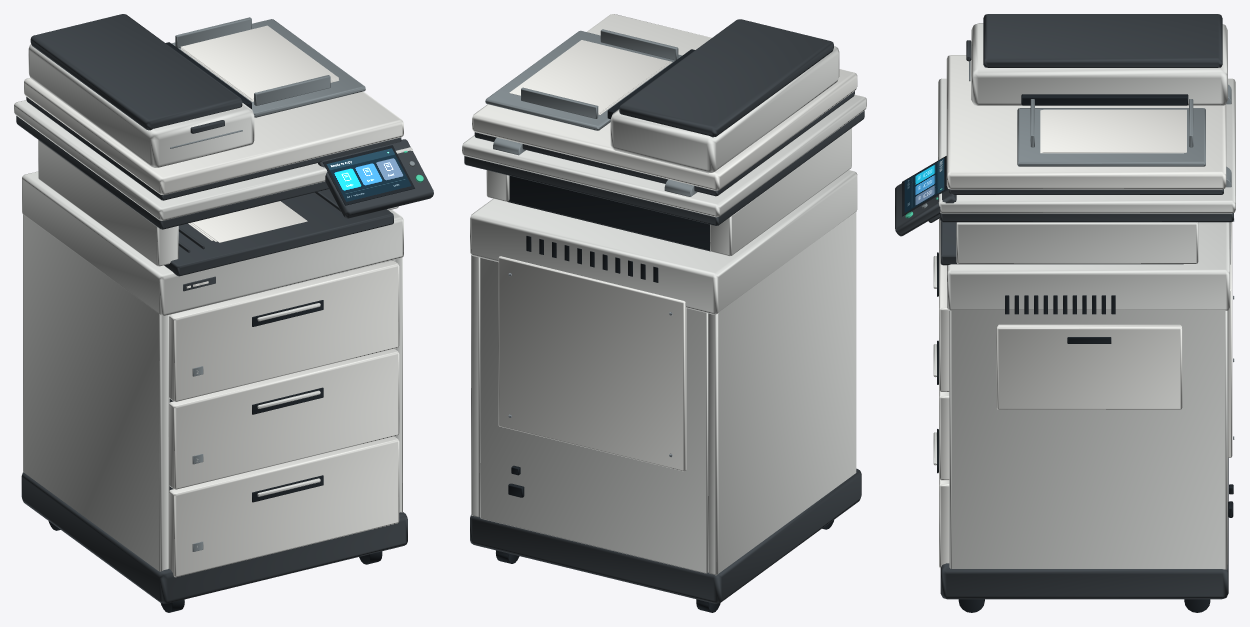
Rendered from compact_office_copier.glb.
3 views of the same model, side by side, from view 1: azimuth 30°, elevation 25°; view 2: azimuth 150°, elevation 25°; view 3: azimuth 270°, elevation 25° (orthographic).
Visible parts, largest first — view 1: CompactOfficeCopier__Warm_white_molded_plastic, CompactOfficeCopier__Graphite_ABS, Drawer_03_front, Drawer_02_front, Drawer_01_front, ScannerLid_Hinge__Graphite_ABS, Scanner lid top, ADF housing, ScannerLid_Hinge__White_paper, ScannerLid_Hinge__Mechanism_gray, Touchscreen_Copy_Scan_Print, CompactOfficeCopier__White_paper (+4 smaller); view 2: CompactOfficeCopier__Warm_white_molded_plastic, Rear service panel, CompactOfficeCopier__Graphite_ABS, ScannerLid_Hinge__Graphite_ABS, Scanner lid top, ADF housing, CompactOfficeCopier__Recesses_and_rubber, ScannerLid_Hinge__White_paper, ScannerLid_Hinge__Mechanism_gray; view 3: CompactOfficeCopier__Warm_white_molded_plastic, Folded right bypass tray, ScannerLid_Hinge__Graphite_ABS, Scanner lid top, CompactOfficeCopier__Graphite_ABS, ADF housing, ScannerLid_Hinge__White_paper, ScannerLid_Hinge__Mechanism_gray, CompactOfficeCopier__Recesses_and_rubber, ADF paper intake slot, Drawer_03_front, Touchscreen_Copy_Scan_Print (+4 smaller).
Part boxes in pixels (bbox=[...]): CompactOfficeCopier__Warm_white_molded_plastic: bbox=[14, 100, 413, 571]; CompactOfficeCopier__Graphite_ABS: bbox=[16, 116, 407, 603]; Drawer_03_front: bbox=[169, 260, 399, 401]; Drawer_02_front: bbox=[169, 349, 399, 489]; Drawer_01_front: bbox=[169, 436, 399, 577]; ScannerLid_Hinge__Graphite_ABS: bbox=[26, 14, 401, 200]; Scanner lid top: bbox=[24, 21, 403, 195]; ADF housing: bbox=[28, 44, 254, 167]; ScannerLid_Hinge__White_paper: bbox=[180, 25, 338, 101]; ScannerLid_Hinge__Mechanism_gray: bbox=[170, 17, 365, 148]; Touchscreen_Copy_Scan_Print: bbox=[326, 148, 411, 201]; CompactOfficeCopier__White_paper: bbox=[186, 201, 307, 288]; CompactOfficeCopier__Warm_white_molded_plastic: bbox=[462, 94, 866, 575]; Rear service panel: bbox=[498, 256, 686, 471]; CompactOfficeCopier__Graphite_ABS: bbox=[464, 110, 864, 603]; ScannerLid_Hinge__Graphite_ABS: bbox=[474, 19, 854, 196]; Scanner lid top: bbox=[472, 14, 857, 190]; ADF housing: bbox=[610, 46, 839, 173]; CompactOfficeCopier__Recesses_and_rubber: bbox=[496, 176, 833, 612]; ScannerLid_Hinge__White_paper: bbox=[509, 40, 672, 114]; ScannerLid_Hinge__Mechanism_gray: bbox=[485, 29, 697, 196]; CompactOfficeCopier__Warm_white_molded_plastic: bbox=[938, 78, 1235, 569]; Folded right bypass tray: bbox=[996, 324, 1182, 409]; ScannerLid_Hinge__Graphite_ABS: bbox=[949, 14, 1223, 194]; Scanner lid top: bbox=[946, 55, 1226, 189]; CompactOfficeCopier__Graphite_ABS: bbox=[940, 213, 1233, 599]; ADF housing: bbox=[971, 23, 1227, 105]; ScannerLid_Hinge__White_paper: bbox=[1040, 109, 1186, 153]; ScannerLid_Hinge__Mechanism_gray: bbox=[969, 61, 1231, 187]; CompactOfficeCopier__Recesses_and_rubber: bbox=[958, 222, 1233, 612]; ADF paper intake slot: bbox=[1021, 94, 1188, 105]; Drawer_03_front: bbox=[939, 218, 949, 391]; Touchscreen_Copy_Scan_Print: bbox=[904, 158, 944, 212].
Size of the model in its own units: 0.623 by 1.12 by 0.7039.
Materials: 9 (1 with a texture image).
